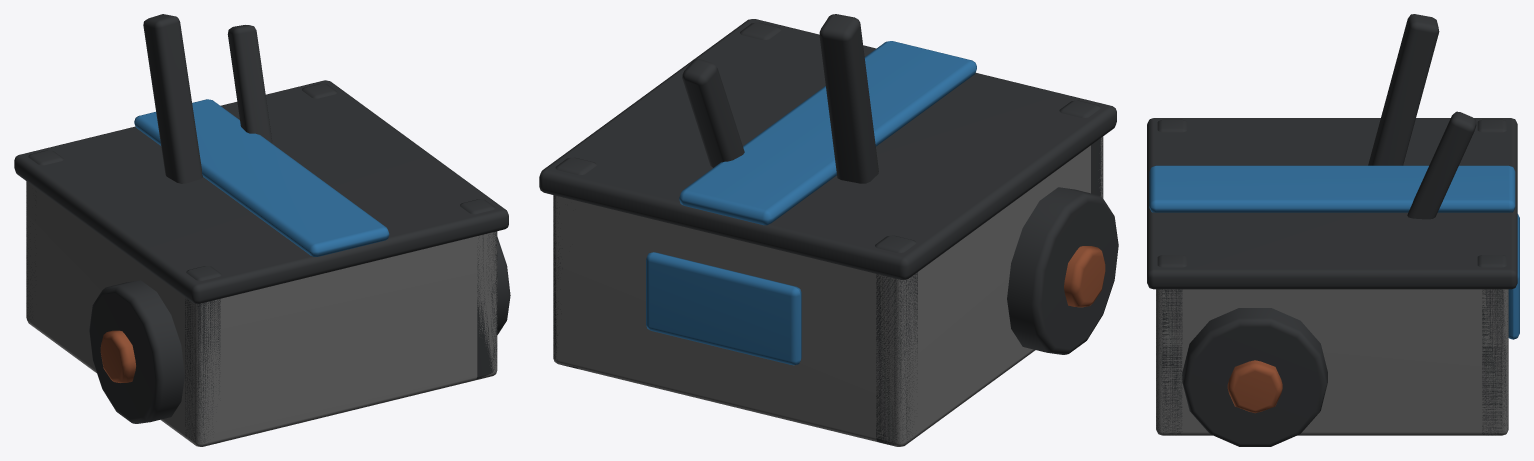
Rendered from chassis-kit.glb.
3 renders of one model, left to right at view 1: azimuth 30°, elevation 25°; view 2: azimuth 150°, elevation 25°; view 3: azimuth 270°, elevation 25°, orthographic. The views are drawn at different scales.
Parts seen in each view (by area): view 1: chassis-kit; view 2: chassis-kit; view 3: chassis-kit.
Part boxes in pixels (bbox=[...]): chassis-kit: bbox=[14, 14, 510, 446]; chassis-kit: bbox=[539, 14, 1118, 446]; chassis-kit: bbox=[1147, 14, 1519, 446].
Size of the model in its own units: 2 by 1.59 by 1.69.
